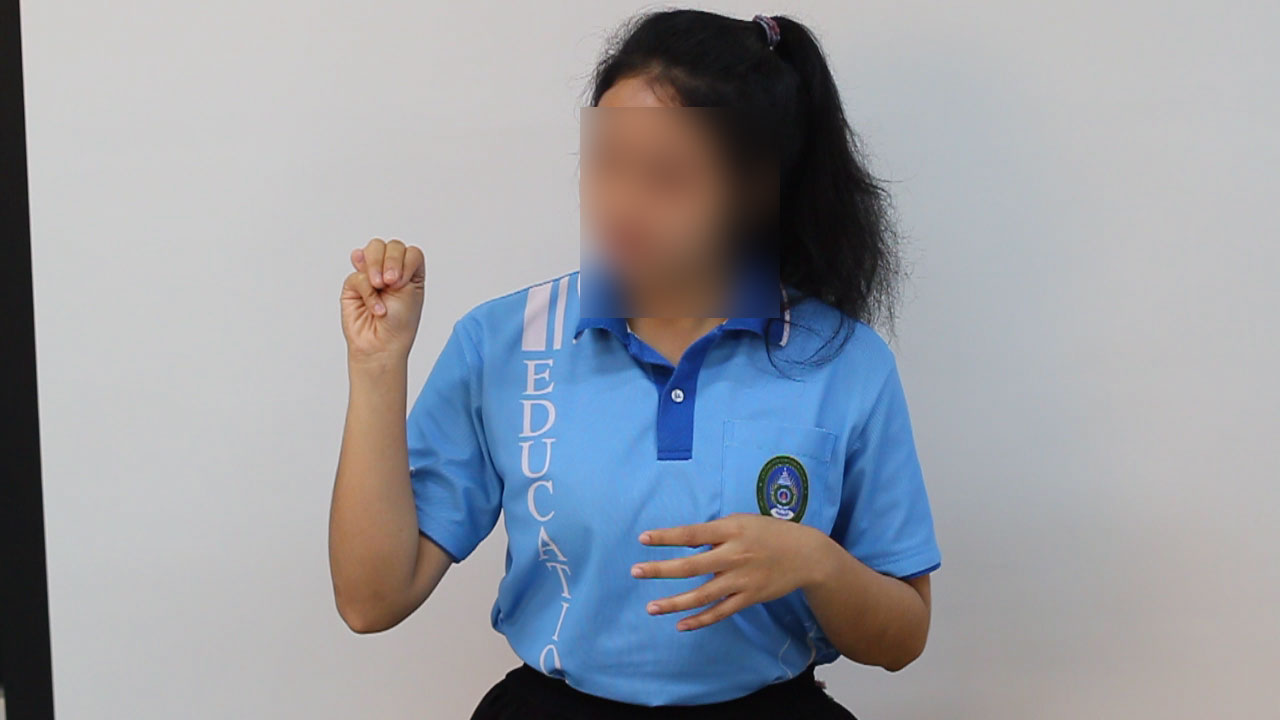mor: (313, 215, 439, 402)
